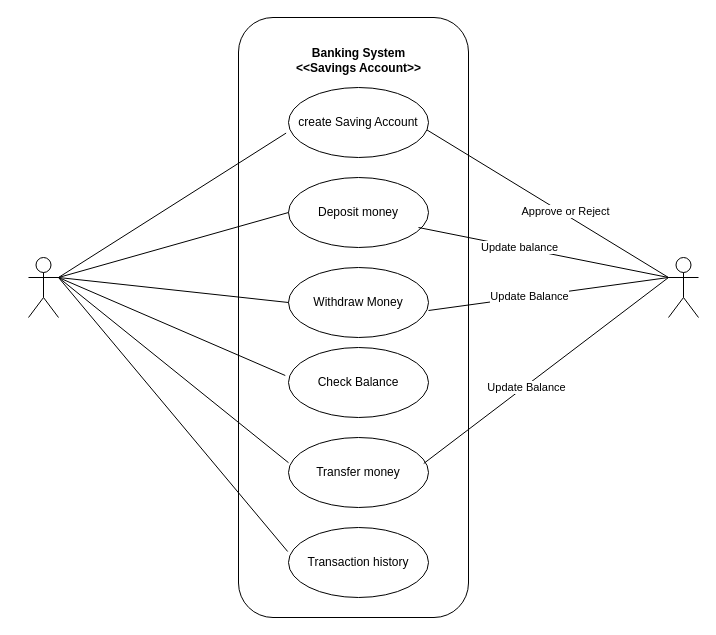
This 716x635 diagram has some shape labels left out. Here are the shapes that lost their labels. From the top down, the centre of each, then its label:
point 43,287: Customer
point 683,287: Bank
